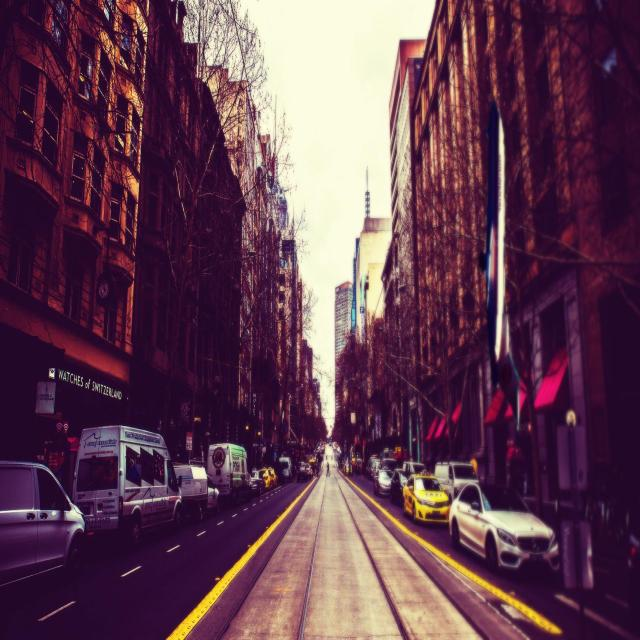airplane: (484, 98, 520, 430)
